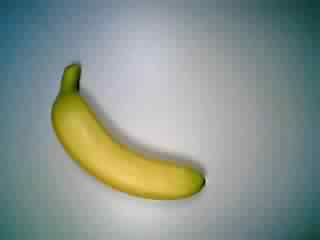banana: (44, 61, 211, 206)
